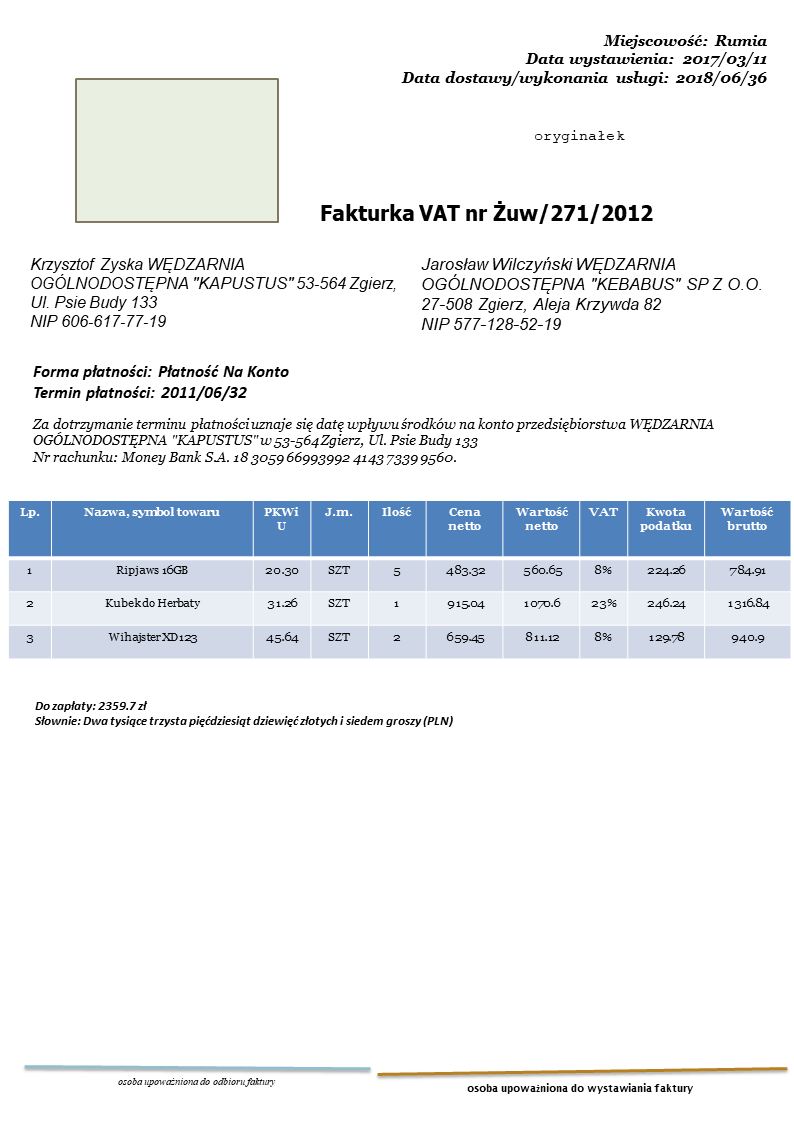Table: (7, 499, 790, 659)
TextBox: (30, 413, 717, 467), (26, 254, 399, 332), (418, 254, 762, 335), (394, 28, 770, 93), (33, 698, 457, 732), (30, 362, 292, 404), (318, 199, 656, 228), (464, 1082, 696, 1098), (114, 1074, 277, 1092), (531, 126, 627, 147)
